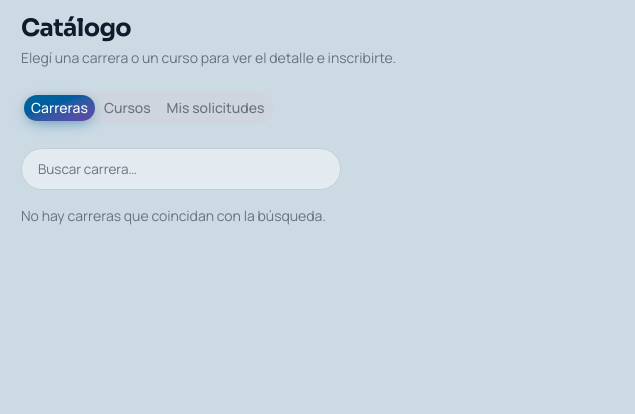
Test case: Catalogo › cambia a la tab Cursos y lista los cursos activos
This screenshot has width=635, height=414.
Click the tab "Cursos".
click(127, 108)  # box [97,96,158,120]
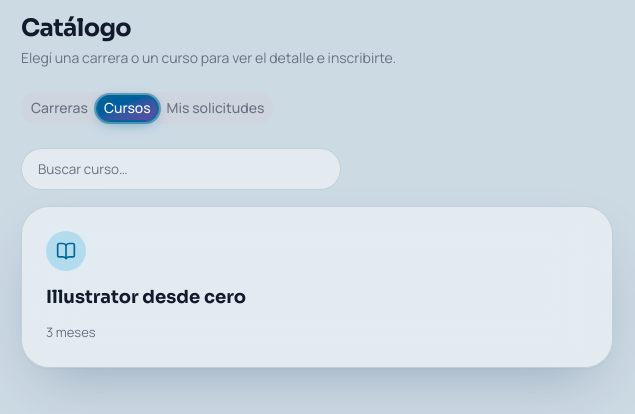
Expected: the text "Illustrator desde cero" is shown, [46,286,246,308]
